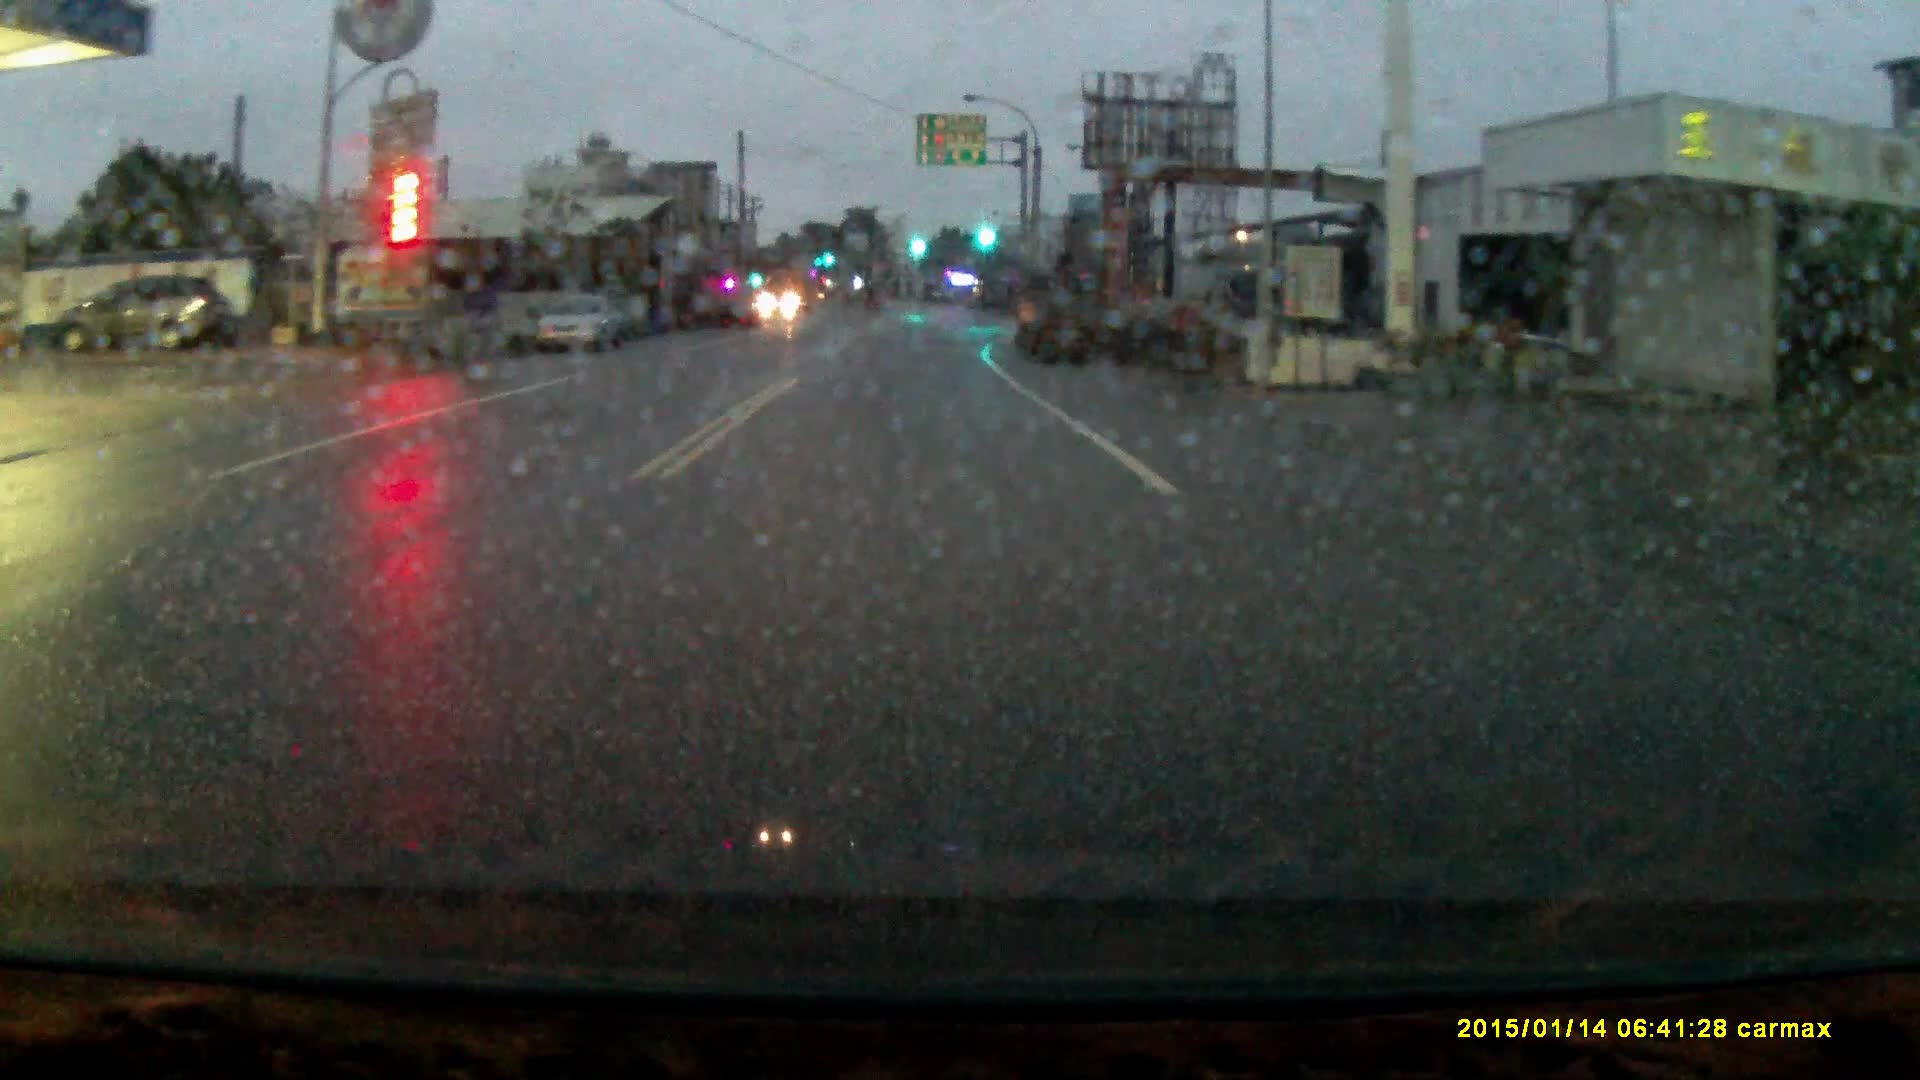rider: (426, 250, 519, 395)
vehicle: (38, 272, 228, 353), (1012, 267, 1104, 372), (530, 296, 643, 359)
